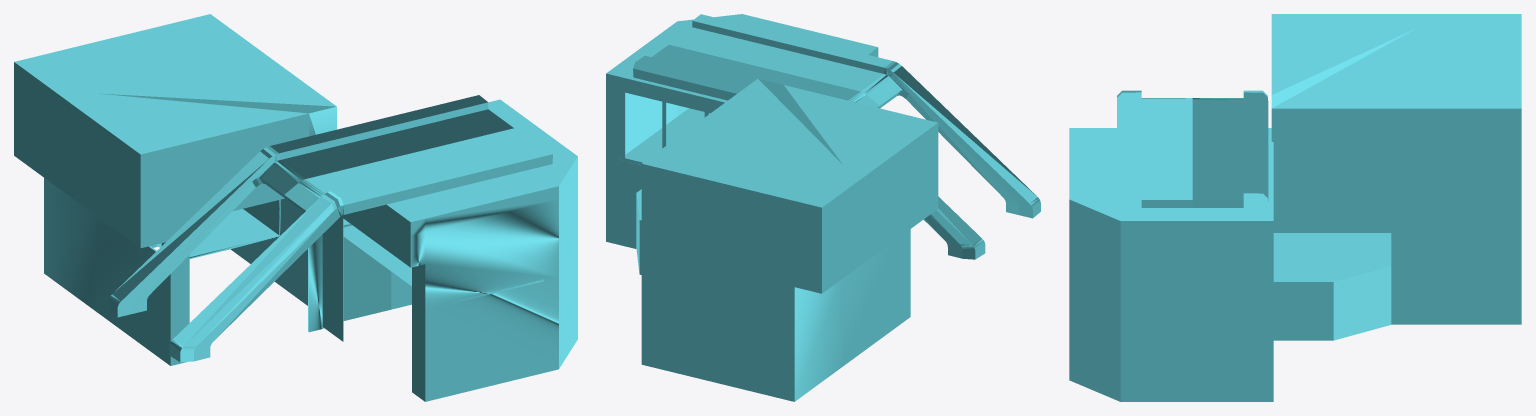
Rendered from building_industrial_002_a.glb.
3 renders of one model, left to right at view 1: azimuth 30°, elevation 25°; view 2: azimuth 150°, elevation 25°; view 3: azimuth 270°, elevation 25°, orthographic. The views are drawn at different scales.
Size of the model in its own units: 53.27 by 28 by 53.09.
